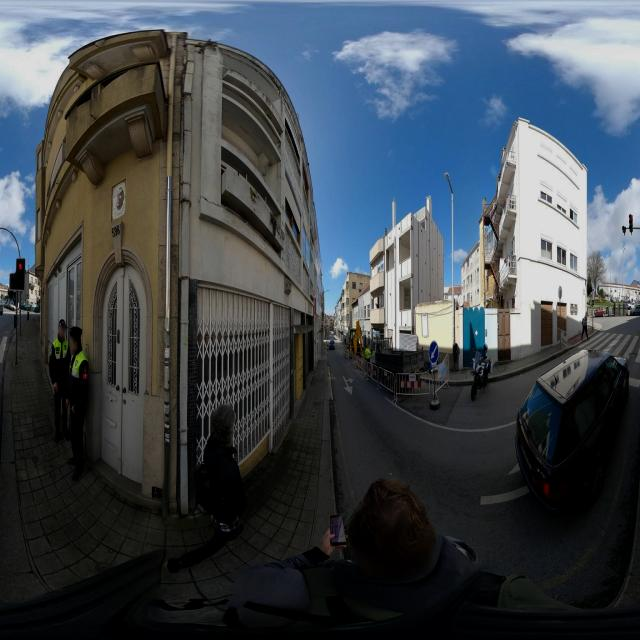bike: (470, 342, 491, 402)
car: (328, 336, 335, 351)
